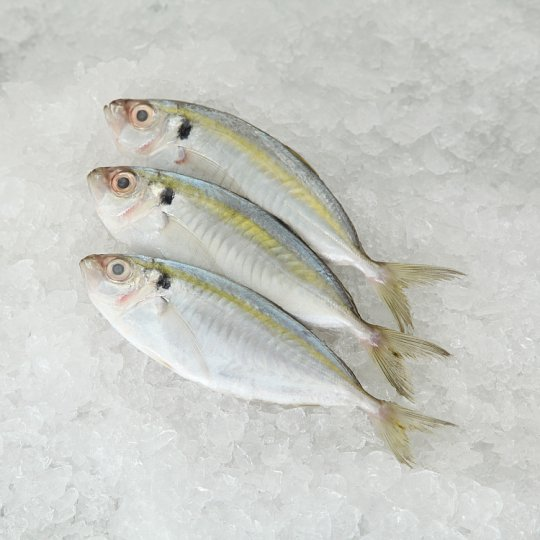Ikan Selar: (66, 252, 392, 430), (75, 89, 404, 230), (72, 160, 386, 298)
